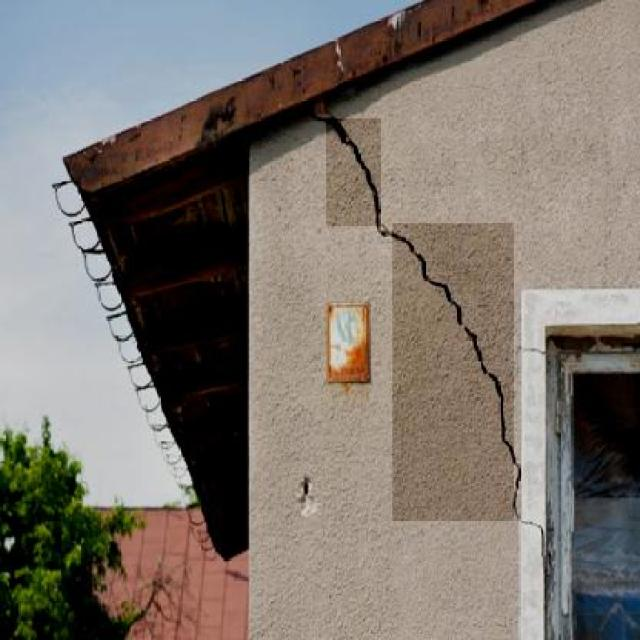Crack: (396, 223, 512, 515), (330, 119, 382, 231), (518, 498, 546, 557), (528, 336, 546, 359)
